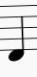D: (6, 1, 27, 64)
